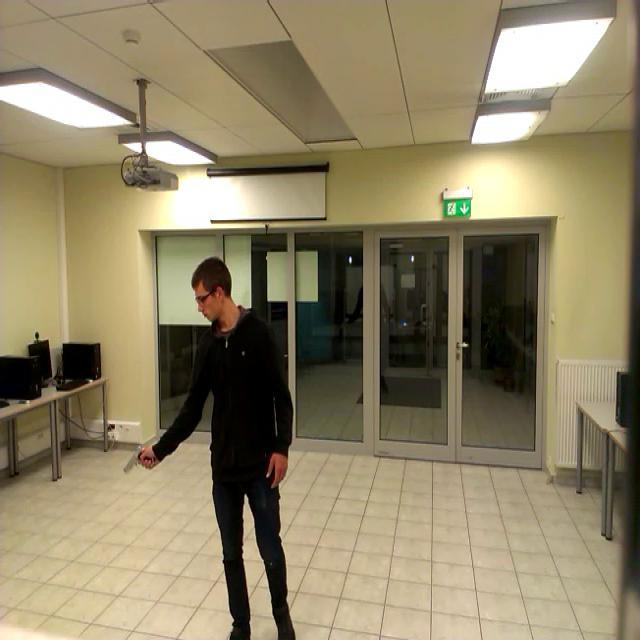Gun: (122, 444, 152, 473)
